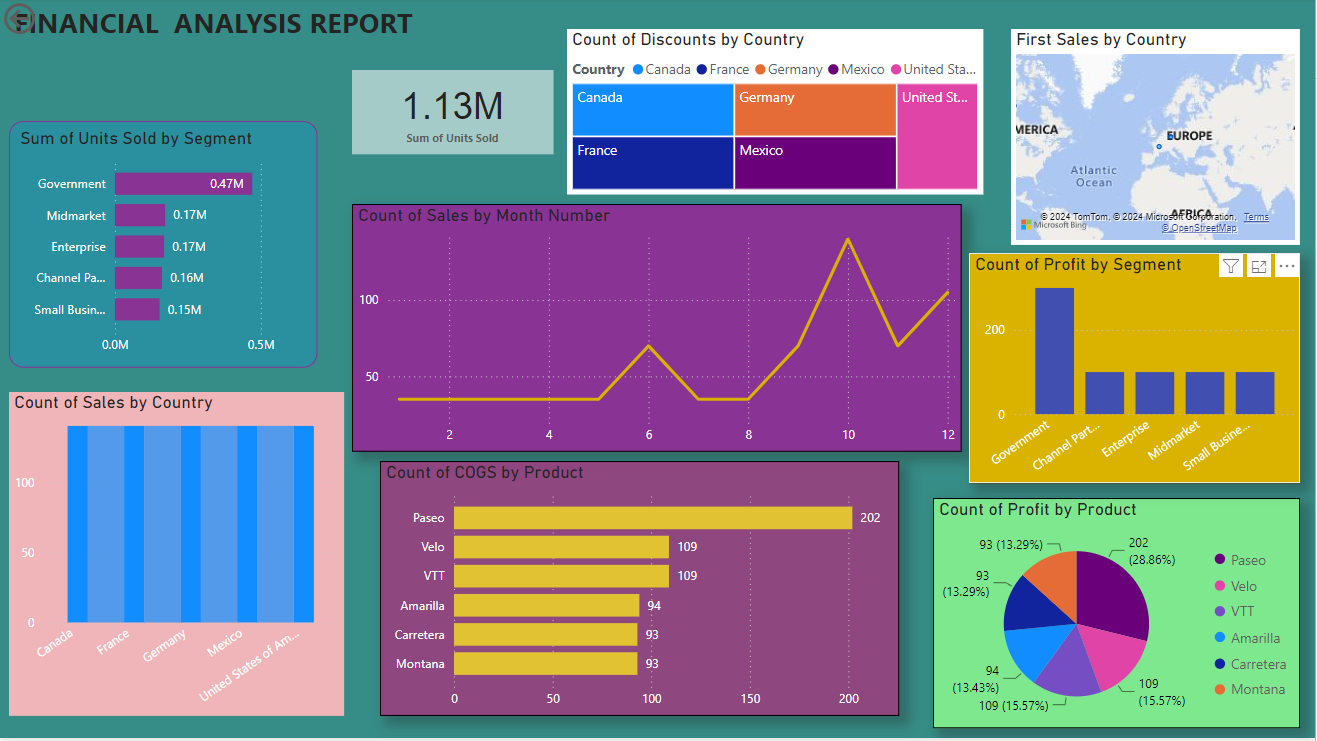

The page's visual inventory and layout, read from the dashboard file:
{"tool":"powerbi","page":{"name":"Page 1","canvas":[1280,720],"ordinal":0},"visuals":[{"type":"textbox","box":[9.7,0,529.1,46.7],"z":0},{"type":"barChart","fields":{"Category":["Financial Sample (2).Segment"],"Y":["Sum(Financial Sample (2).Units Sold)"]},"box":[9.7,119.6,299.6,240.2],"z":2000},{"type":"lineChart","fields":{"Category":["Financial Sample (2).Month Number"],"Y":["CountNonNull(Financial Sample (2).  Sales )"]},"box":[343.3,200.4,593.3,241.2],"z":3000},{"type":"clusteredBarChart","fields":{"Category":["Financial Sample (2). Product "],"Y":["CountNonNull(Financial Sample (2). COGS )"]},"box":[370.6,450.3,504.8,248],"z":4000},{"type":"pieChart","fields":{"Category":["Financial Sample (2). Product "],"Y":["CountNonNull(Financial Sample (2). Profit )"]},"box":[908.4,486.3,357,223.7],"z":5000},{"type":"treemap","fields":{"Values":["CountNonNull(Financial Sample (2). Discounts )"],"Group":["Financial Sample (2).Country"]},"box":[552.5,30.2,404.6,161.5],"z":6000},{"type":"columnChart","fields":{"Category":["Financial Sample (2).Segment"],"Y":["CountNonNull(Financial Sample (2). Profit )"]},"box":[943.5,248,321.9,223.7],"z":7000},{"type":"ribbonChart","fields":{"Category":["Financial Sample (2).Country"],"Y":["CountNonNull(Financial Sample (2).  Sales )"]},"box":[9.7,383.2,325.8,315.1],"z":8000},{"type":"map","fields":{"Category":["Financial Sample (2).Country"]},"box":[984.3,30.2,281.1,210.1],"z":8001},{"type":"card","fields":{"Values":["Sum(Financial Sample (2).Units Sold)"]},"box":[343.3,70,195.5,81.7],"z":8002},{"type":"actionButton","box":[0,0,100,40],"z":8003}]}

Visuals, with their boxes in screenshot pixels (x1, y1, x2, y2), scaled from the page's 1280x720 canvas onto the 1317x741 screenshot:
textbox: bbox=(10, 0, 554, 48)
barChart - Financial Sample (2).Segment x Sum(Financial Sample (2).Units Sold): bbox=(10, 123, 318, 370)
lineChart - Financial Sample (2).Month Number x CountNonNull(Financial Sample (2).  Sales ): bbox=(353, 206, 964, 454)
clusteredBarChart - Financial Sample (2). Product  x CountNonNull(Financial Sample (2). COGS ): bbox=(381, 463, 901, 719)
pieChart - Financial Sample (2). Product  x CountNonNull(Financial Sample (2). Profit ): bbox=(935, 500, 1302, 731)
treemap - CountNonNull(Financial Sample (2). Discounts ) x Financial Sample (2).Country: bbox=(568, 31, 985, 197)
columnChart - Financial Sample (2).Segment x CountNonNull(Financial Sample (2). Profit ): bbox=(971, 255, 1302, 485)
ribbonChart - Financial Sample (2).Country x CountNonNull(Financial Sample (2).  Sales ): bbox=(10, 394, 345, 719)
map - Financial Sample (2).Country: bbox=(1013, 31, 1302, 247)
card - Sum(Financial Sample (2).Units Sold): bbox=(353, 72, 554, 156)
actionButton: bbox=(0, 0, 103, 41)
